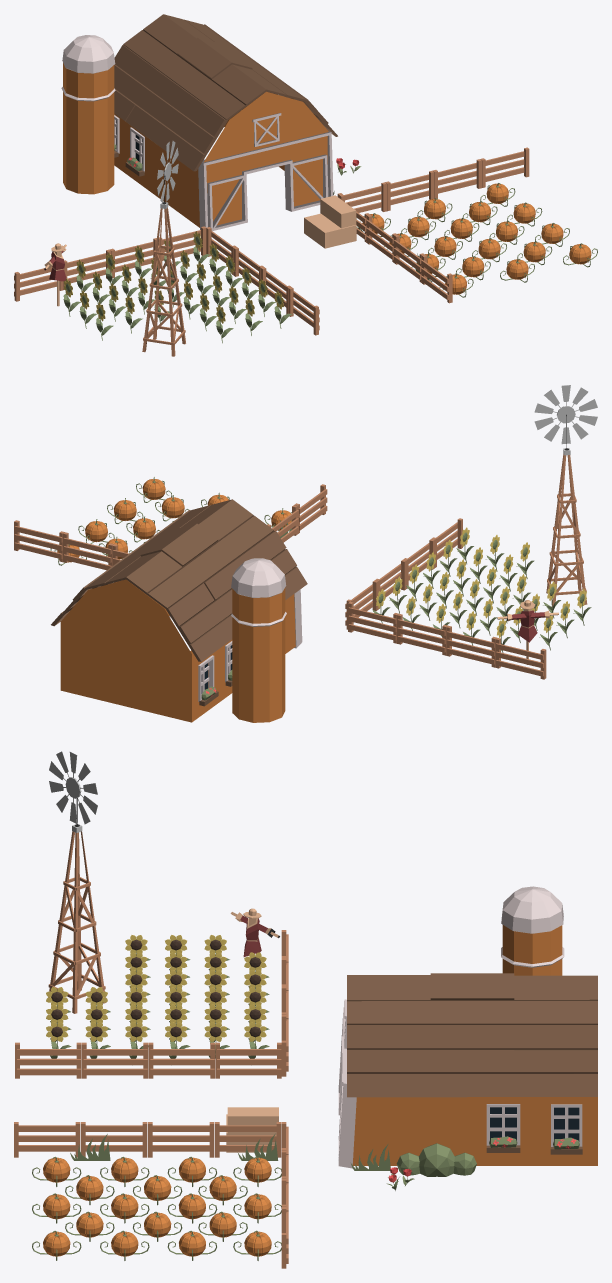
Rendered from Cottage_1.fbx.
The picture shows the model from 3 angles, top to bottom: view 1: azimuth 30°, elevation 25°; view 2: azimuth 150°, elevation 25°; view 3: azimuth 270°, elevation 25°; orthographic projection. The views are drawn at different scales.
Visible parts, largest first — view 1: roof, outer_wall, factory_tower, outwall_frame, windmill_stand, Boxes_2, Fence_011, Fence_009, Fence_010, window, Fence_1, Fence_016 (+26 smaller); view 2: outer_wall, roof, factory_tower, windmill_stand, windmill_fan, Fence_1, Fence_002, Fence_003, Fence_011, Fence_004, Fence_010, window (+12 smaller); view 3: roof, outer_wall, factory_tower, windmill_stand, window, large_grass, outwall_frame, Fence_007, Fence_008, Fence_006, Fence_005, windmill_fan (+24 smaller).
Part boxes in pixels (left/top/right/bottom): roof: left=114, top=14, right=337, bottom=171; outer_wall: left=114, top=91, right=328, bottom=227; factory_tower: left=61, top=35, right=115, bottom=194; outwall_frame: left=198, top=113, right=333, bottom=230; windmill_stand: left=142, top=170, right=185, bottom=356; Boxes_2: left=304, top=195, right=356, bottom=248; Fence_011: left=480, top=147, right=529, bottom=187; Fence_009: left=385, top=170, right=434, bottom=211; Fence_010: left=433, top=159, right=481, bottom=198; window: left=114, top=115, right=144, bottom=176; Fence_1: left=14, top=266, right=63, bottom=301; Fence_016: left=337, top=182, right=386, bottom=212; outer_wall: left=60, top=579, right=295, bottom=722; roof: left=51, top=499, right=307, bottom=661; factory_tower: left=231, top=558, right=286, bottom=722; windmill_stand: left=546, top=414, right=587, bottom=606; windmill_fan: left=534, top=385, right=597, bottom=444; Fence_1: left=495, top=637, right=546, bottom=679; Fence_002: left=446, top=625, right=496, bottom=667; Fence_003: left=397, top=613, right=447, bottom=655; Fence_011: left=14, top=520, right=64, bottom=562; Fence_004: left=348, top=601, right=398, bottom=643; Fence_010: left=63, top=532, right=113, bottom=570; window: left=198, top=641, right=232, bottom=706; roof: left=347, top=973, right=597, bottom=1097; outer_wall: left=352, top=1097, right=597, bottom=1165; factory_tower: left=501, top=886, right=564, bottom=975; windmill_stand: left=48, top=798, right=106, bottom=1013; window: left=486, top=1104, right=582, bottom=1154; large_grass: left=396, top=1143, right=476, bottom=1176; outwall_frame: left=338, top=999, right=356, bottom=1168; Fence_007: left=82, top=1042, right=148, bottom=1078; Fence_008: left=15, top=1042, right=81, bottom=1078; Fence_006: left=148, top=1042, right=214, bottom=1078; Fence_005: left=215, top=1042, right=281, bottom=1078; windmill_fan: left=49, top=751, right=97, bottom=824.
Bounding box in the file's own units: 1129 × 913 × 449.
